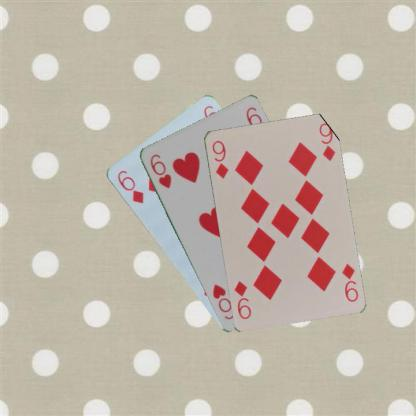6d: (114, 168, 145, 204)
6h: (147, 151, 173, 190)
9d: (209, 138, 230, 180), (340, 260, 360, 304)
